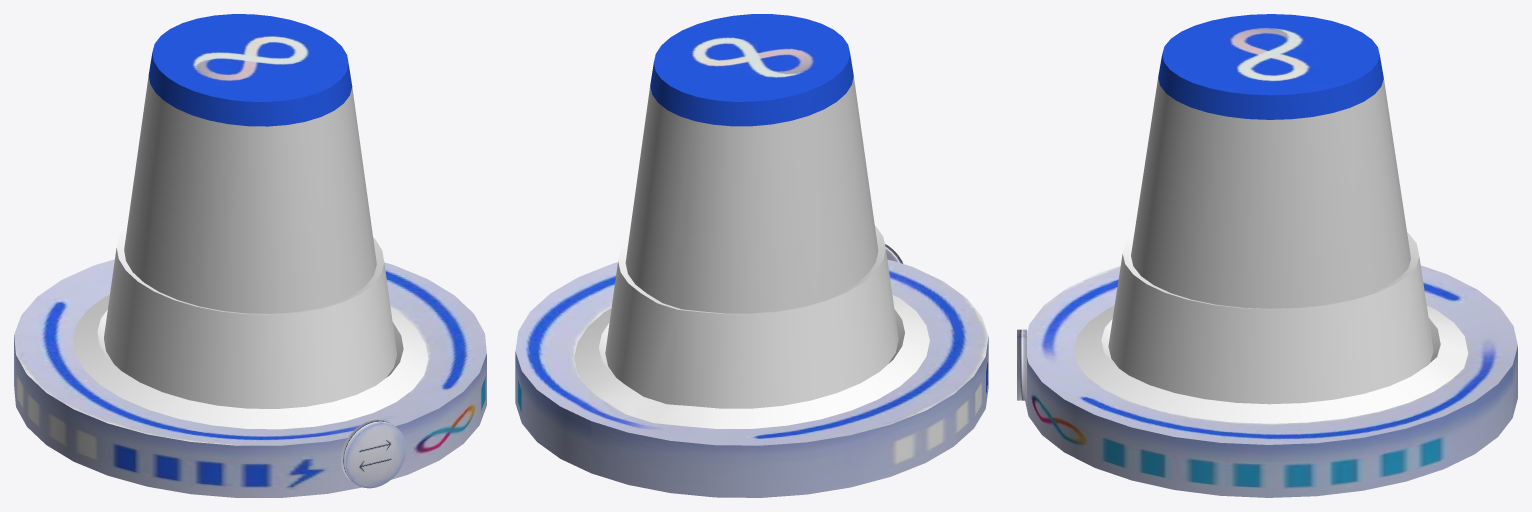
Rendered from poweblend.fbx.
3 renders of one model, left to right at view 1: azimuth 30°, elevation 25°; view 2: azimuth 150°, elevation 25°; view 3: azimuth 270°, elevation 25°, orthographic.
Parts seen in each view (by area): view 1: Cylinder, Cylinder.001; view 2: Cylinder; view 3: Cylinder, Cylinder.001.
Boxes of the visible parts, left/top/right/bottom form: Cylinder: left=14, top=14, right=486, bottom=497; Cylinder.001: left=341, top=419, right=406, bottom=488; Cylinder: left=515, top=14, right=988, bottom=497; Cylinder: left=1025, top=14, right=1517, bottom=497; Cylinder.001: left=1017, top=329, right=1026, bottom=400.
Size of the model in its own units: 445 by 354 by 469.
8 materials, 4 textured.
